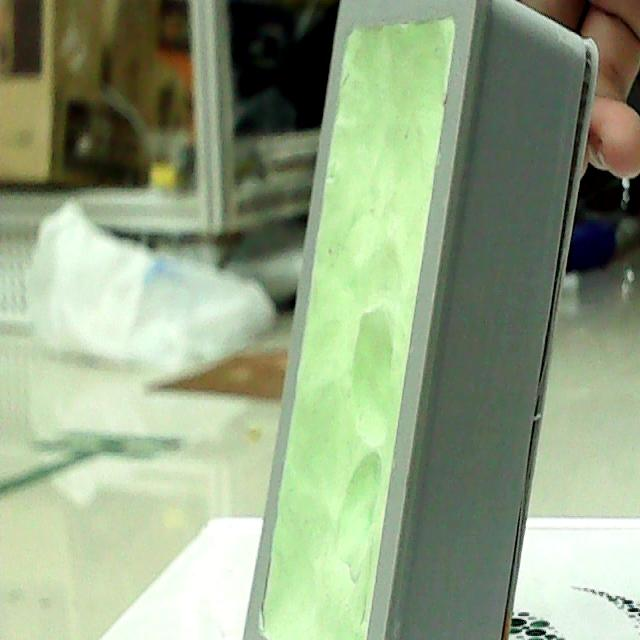block: (237, 0, 597, 638)
